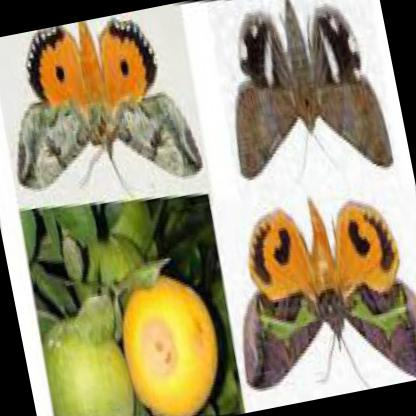fruit sucking moth: (242, 199, 416, 387), (15, 19, 202, 193), (231, 1, 391, 182)
